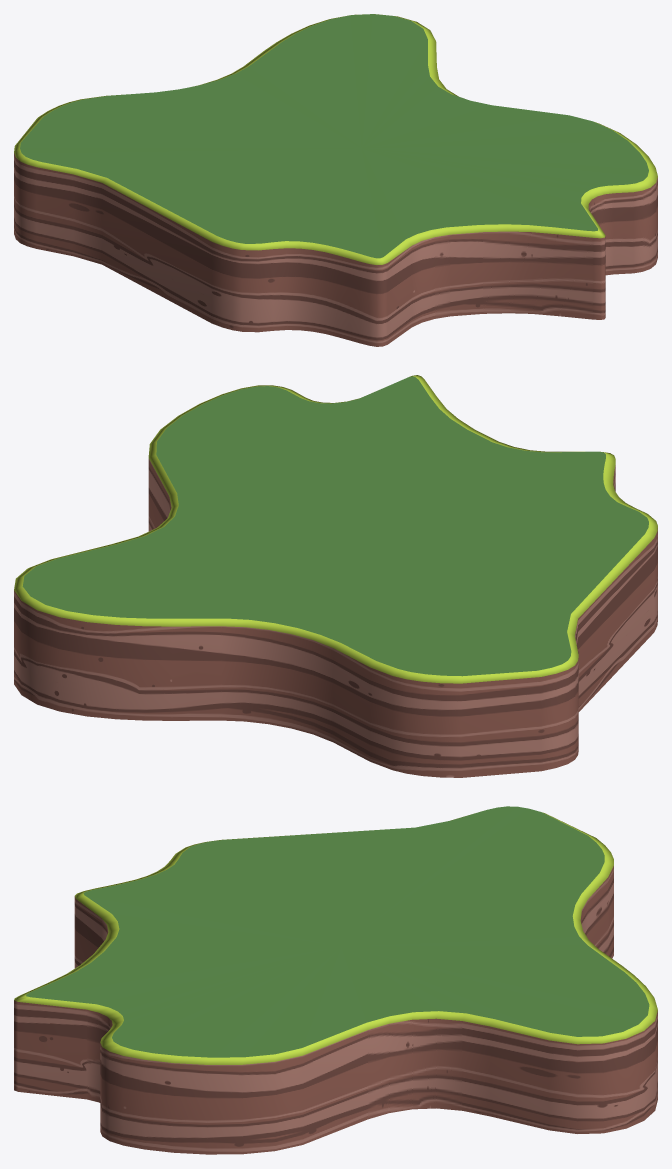
Rendered from grasschunk5.glb.
3 renders of one model, top to bottom at view 1: azimuth 30°, elevation 25°; view 2: azimuth 150°, elevation 25°; view 3: azimuth 270°, elevation 25°, orthographic. The views are drawn at different scales.
Parts seen in each view (by area): view 1: Plate_Curved_Var16_07_Forest_mat_01_0; view 2: Plate_Curved_Var16_07_Forest_mat_01_0; view 3: Plate_Curved_Var16_07_Forest_mat_01_0.
Boxes of the visible parts, x1=… form: Plate_Curved_Var16_07_Forest_mat_01_0: x1=14, y1=14, x2=657, y2=346; Plate_Curved_Var16_07_Forest_mat_01_0: x1=14, y1=375, x2=657, y2=777; Plate_Curved_Var16_07_Forest_mat_01_0: x1=14, y1=806, x2=657, y2=1154.
Bounding box in the file's own units: 0.1951 × 0.033 × 0.2061.
Materials: 1 (1 with a texture image).
